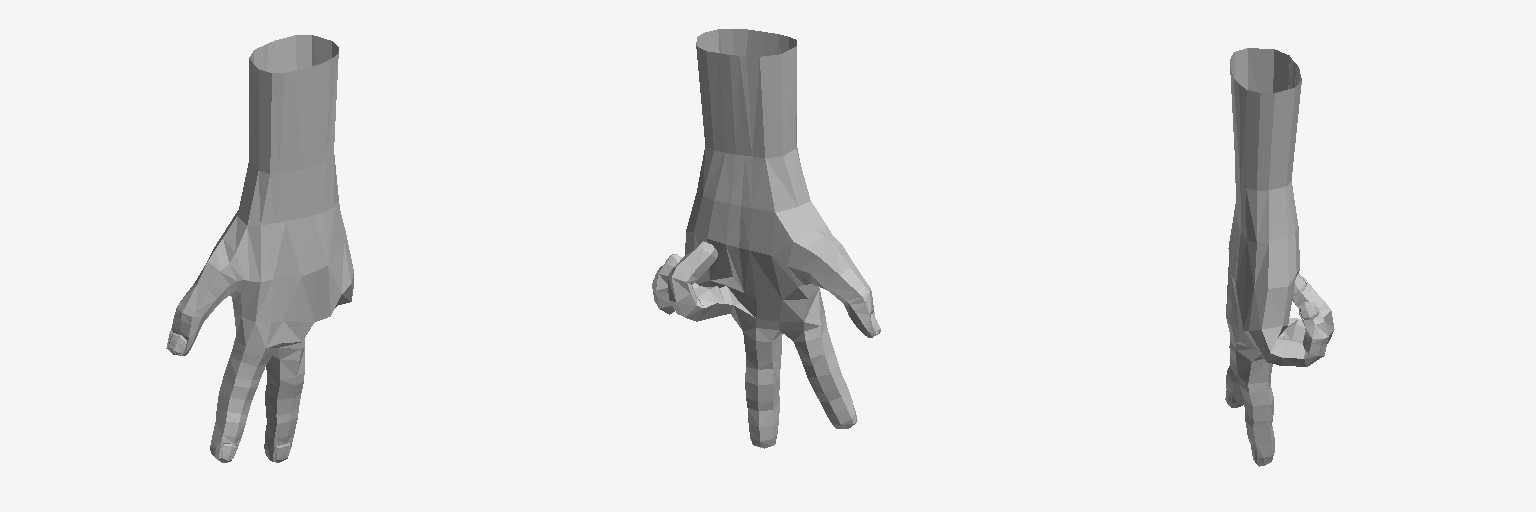
Rendered from handAnimated4_000048.obj.
3 renders of one model, left to right at view 1: azimuth 30°, elevation 25°; view 2: azimuth 150°, elevation 25°; view 3: azimuth 270°, elevation 25°, orthographic.
Visible parts, largest first — view 1: Cube.000_Cube.017_Detached_Detached; view 2: Cube.000_Cube.017_Detached_Detached; view 3: Cube.000_Cube.017_Detached_Detached.
Part boxes in pixels (left/top/right/bottom): Cube.000_Cube.017_Detached_Detached: left=166, top=35, right=353, bottom=462; Cube.000_Cube.017_Detached_Detached: left=652, top=29, right=880, bottom=448; Cube.000_Cube.017_Detached_Detached: left=1225, top=48, right=1334, bottom=466.
Bounding box in the file's own units: 0.69 × 1.34 × 0.3291.